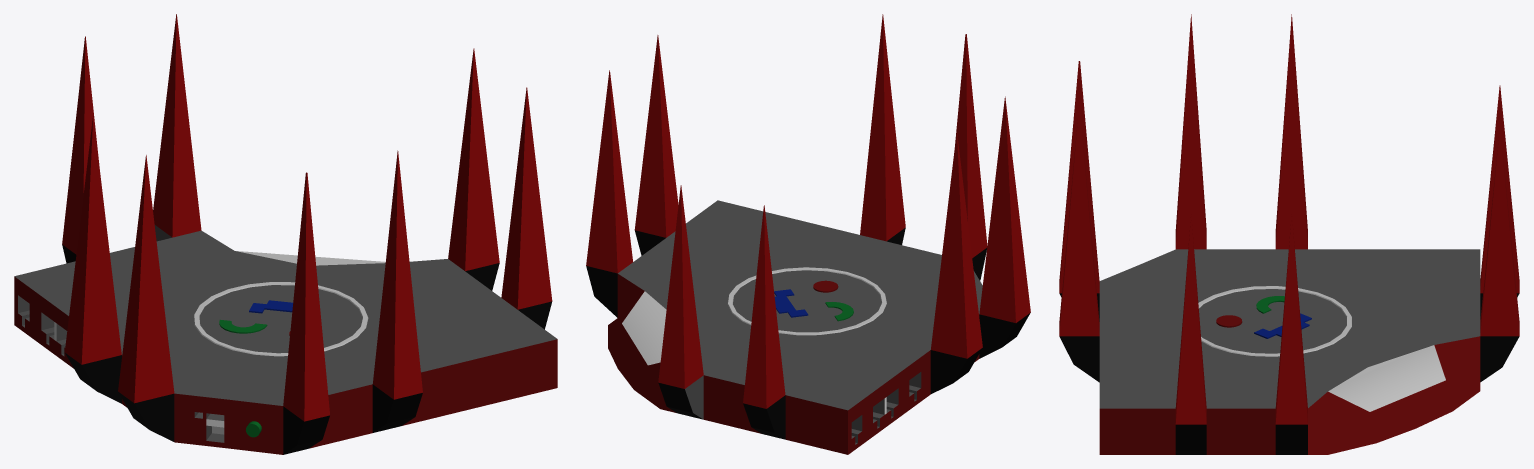
The model's file is SM_Router.fbx.
The picture shows the model from 3 angles, left to right: view 1: azimuth 30°, elevation 25°; view 2: azimuth 150°, elevation 25°; view 3: azimuth 270°, elevation 25°; orthographic projection. The views are drawn at different scales.
Parts seen in each view (by area): view 1: pCube4; view 2: pCube4; view 3: pCube4.
Part boxes in pixels (box(x1,y1,x2,y2)): pCube4: box(14, 14, 557, 454); pCube4: box(586, 14, 1030, 454); pCube4: box(1059, 14, 1519, 454).
Size of the model in its own units: 60.36 by 39.57 by 60.6.
